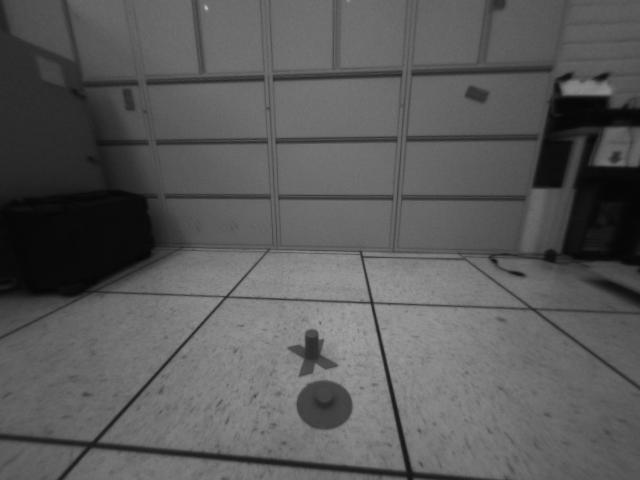X: (287, 329, 339, 376)
